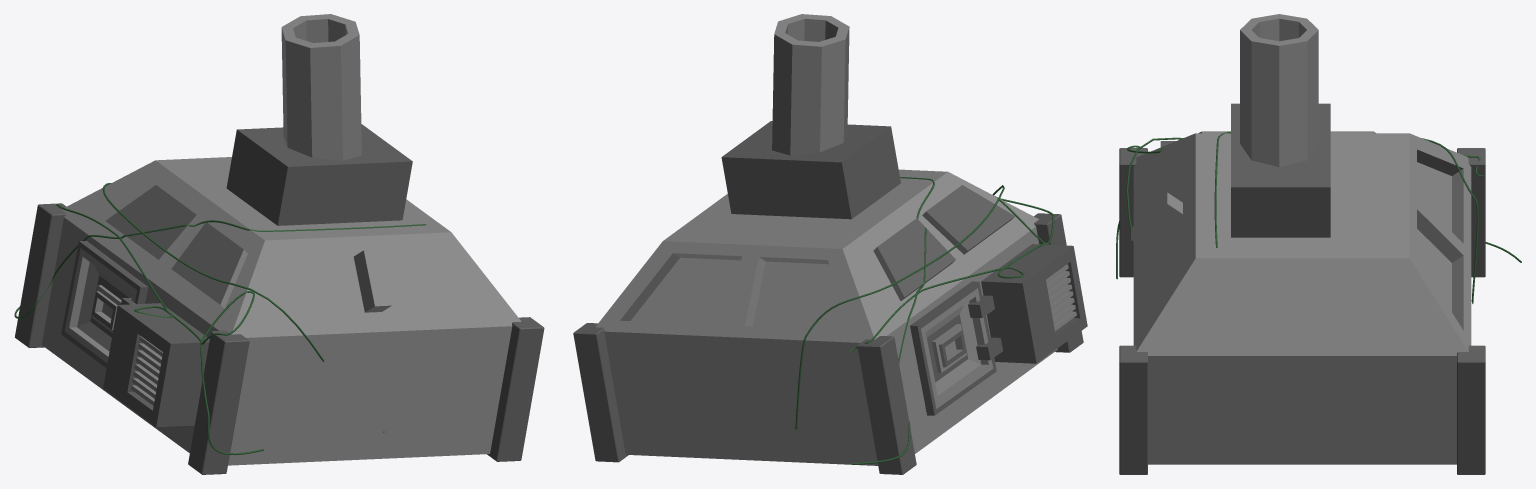
The model's file is starting_bunker.glb.
3 views of the same model, side by side, from view 1: azimuth 30°, elevation 25°; view 2: azimuth 150°, elevation 25°; view 3: azimuth 270°, elevation 25° (orthographic). The views are drawn at different scales.
Visible parts, largest first — view 1: Cube, Cube.001, BézierCurve; view 2: Cube, Cube.001, BézierCurve; view 3: Cube, BézierCurve.
Part boxes in pixels (left/top/right/bottom): Cube: left=15, top=14, right=544, bottom=474; Cube.001: left=61, top=241, right=148, bottom=367; BézierCurve: left=14, top=183, right=426, bottom=455; Cube: left=573, top=14, right=1087, bottom=474; Cube.001: left=910, top=281, right=1003, bottom=415; BézierCurve: left=795, top=177, right=1054, bottom=464; Cube: left=1119, top=14, right=1485, bottom=474; BézierCurve: left=1116, top=131, right=1521, bottom=303.
Size of the model in its own units: 43.94 by 45.66 by 43.13.
